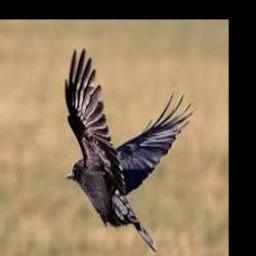Crow: (65, 48, 194, 251)
